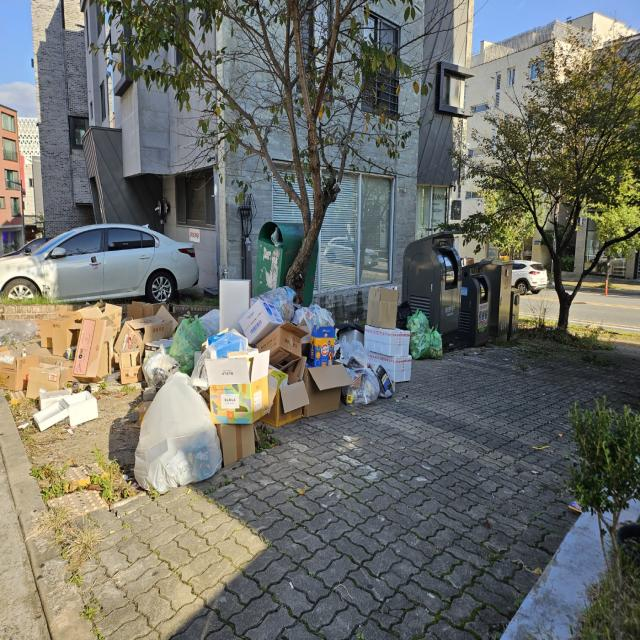CleanNet: (403, 234, 462, 350), (459, 260, 493, 346)
General Waste: (134, 285, 446, 483), (130, 280, 349, 492), (0, 286, 200, 412), (366, 281, 444, 385), (172, 315, 207, 375), (405, 308, 443, 358)
